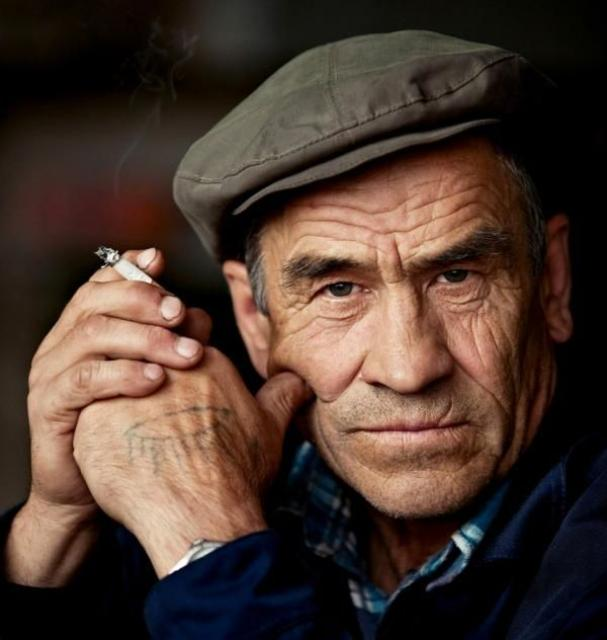crows_feet: (480, 266, 512, 302), (284, 288, 314, 314)
forehead: (362, 202, 404, 252), (414, 184, 451, 240), (298, 199, 354, 233), (459, 176, 495, 226)
frown_line: (390, 242, 412, 278)
gummy_smile: (446, 342, 483, 384), (333, 356, 369, 390)
masseter: (316, 419, 340, 459)
smoker_lines: (438, 398, 458, 424)
